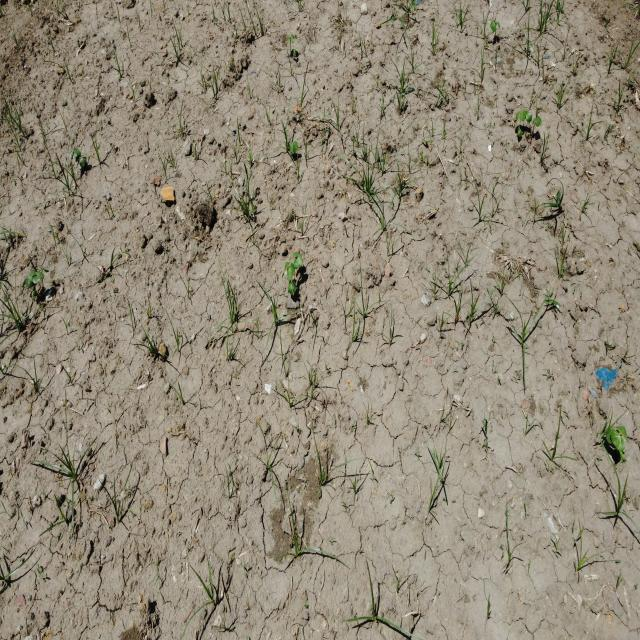seedling: (611, 429, 625, 451), (615, 426, 629, 442), (26, 271, 37, 288), (287, 263, 295, 281), (70, 148, 81, 160), (32, 272, 44, 283), (606, 427, 613, 444), (294, 256, 303, 269), (79, 155, 86, 167), (525, 110, 532, 122), (490, 21, 496, 32), (288, 282, 293, 295), (293, 141, 298, 153), (516, 110, 522, 120), (536, 117, 542, 127), (521, 110, 526, 121), (284, 262, 290, 271), (292, 252, 301, 258), (518, 127, 523, 137), (292, 280, 296, 291), (495, 21, 501, 28), (292, 49, 297, 57), (290, 141, 293, 153), (287, 34, 290, 44), (291, 34, 294, 43), (533, 118, 538, 123)
